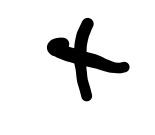plus: (47, 18, 130, 102)
